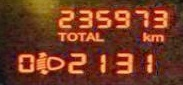0: (14, 53, 33, 74)
1: (96, 51, 107, 75), (144, 51, 153, 74)
2: (66, 51, 86, 76), (57, 7, 75, 28)
3: (114, 50, 131, 77), (151, 8, 167, 26), (77, 8, 91, 27)
5: (94, 8, 110, 28)
7: (134, 8, 149, 28)
9: (112, 8, 130, 29)
X: (150, 33, 163, 41), (56, 30, 65, 41), (66, 31, 76, 40), (95, 31, 104, 40), (85, 31, 94, 40), (77, 30, 84, 41), (142, 31, 149, 41)
